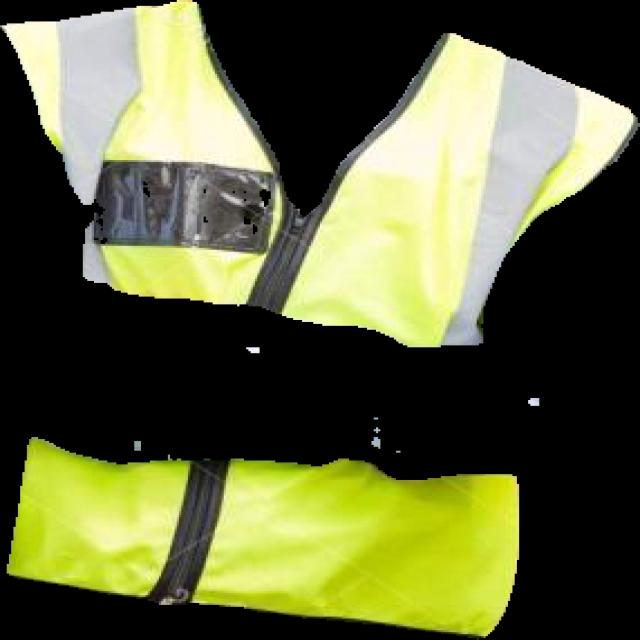Colete: (0, 0, 639, 347)
